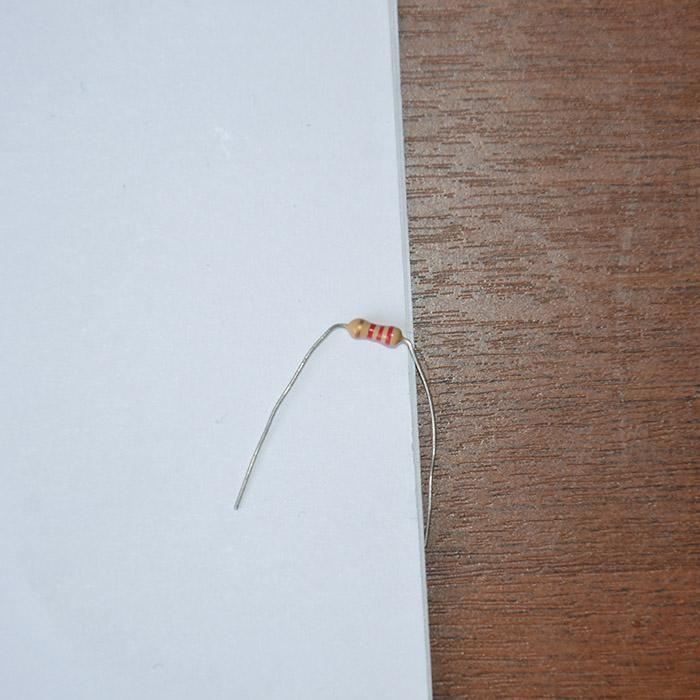resistor: (346, 317, 405, 346)
